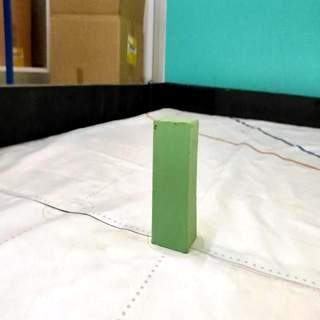greenbox: (152, 116, 202, 256)
